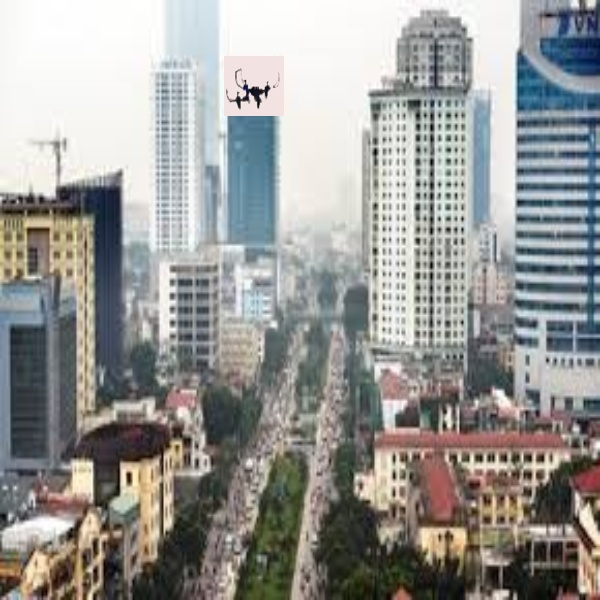drone: (222, 56, 282, 120)
